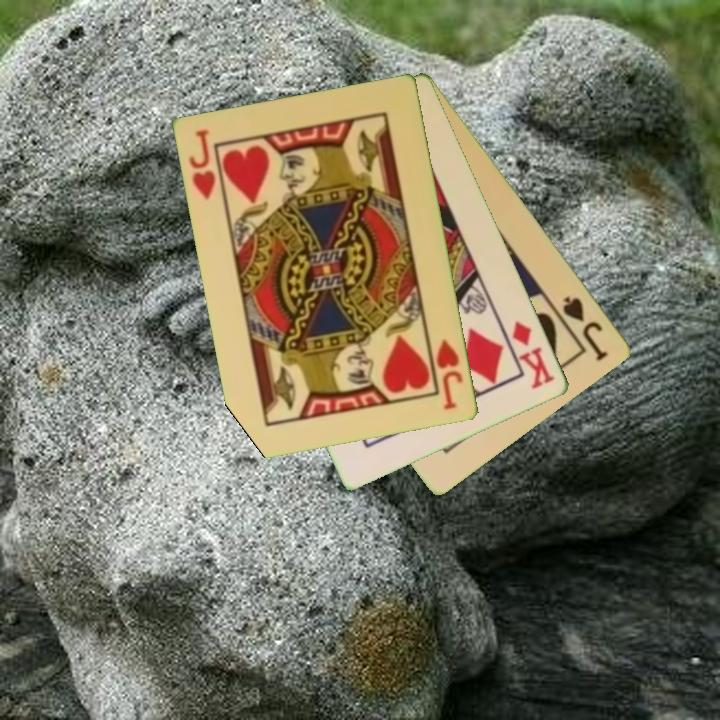Jh: (425, 332, 467, 413), (185, 126, 219, 203)
Js: (559, 292, 612, 364)
Kd: (509, 317, 558, 392)
